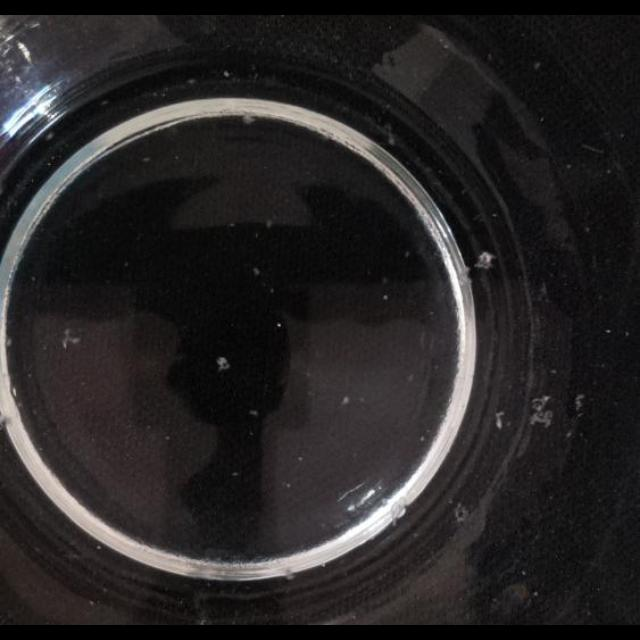Fibre: (529, 396, 555, 428), (61, 328, 81, 350), (474, 252, 496, 270), (216, 356, 230, 372), (573, 393, 585, 411), (494, 410, 504, 430), (242, 114, 256, 126)
microbeads: (252, 266, 262, 276), (342, 396, 351, 406), (407, 372, 415, 383), (249, 409, 259, 417), (265, 218, 273, 228), (142, 156, 152, 164), (533, 61, 541, 70), (404, 250, 411, 260), (382, 294, 388, 302), (604, 329, 612, 335), (231, 471, 239, 477), (165, 434, 171, 442), (420, 434, 426, 442), (283, 482, 291, 488), (566, 163, 572, 169)
